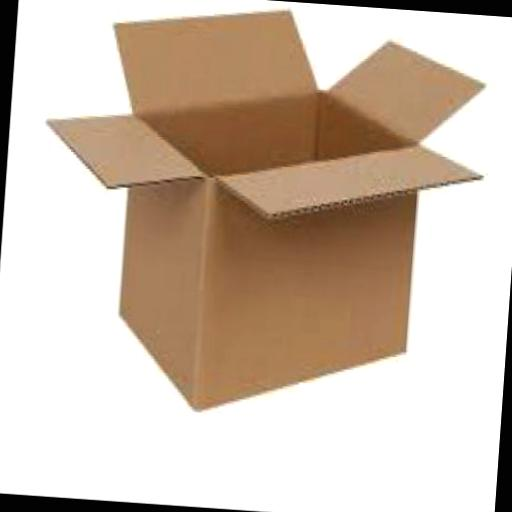cardboard: (27, 0, 495, 429)
